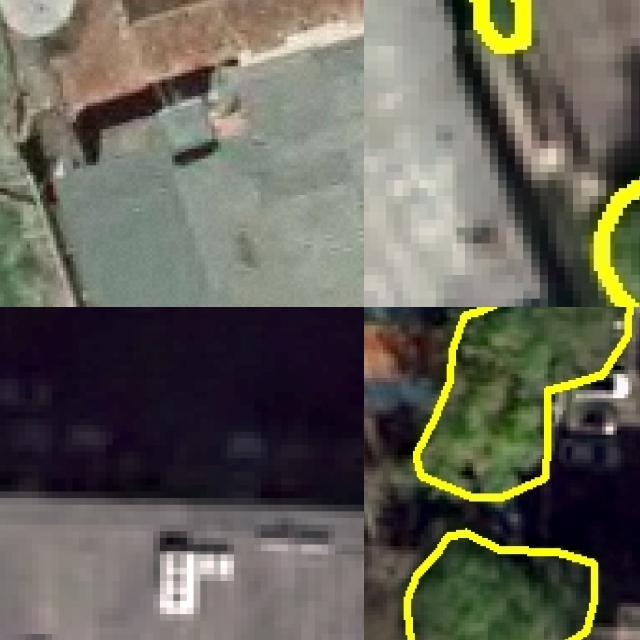trees: (416, 308, 631, 498), (407, 533, 596, 640), (474, 1, 524, 47)
